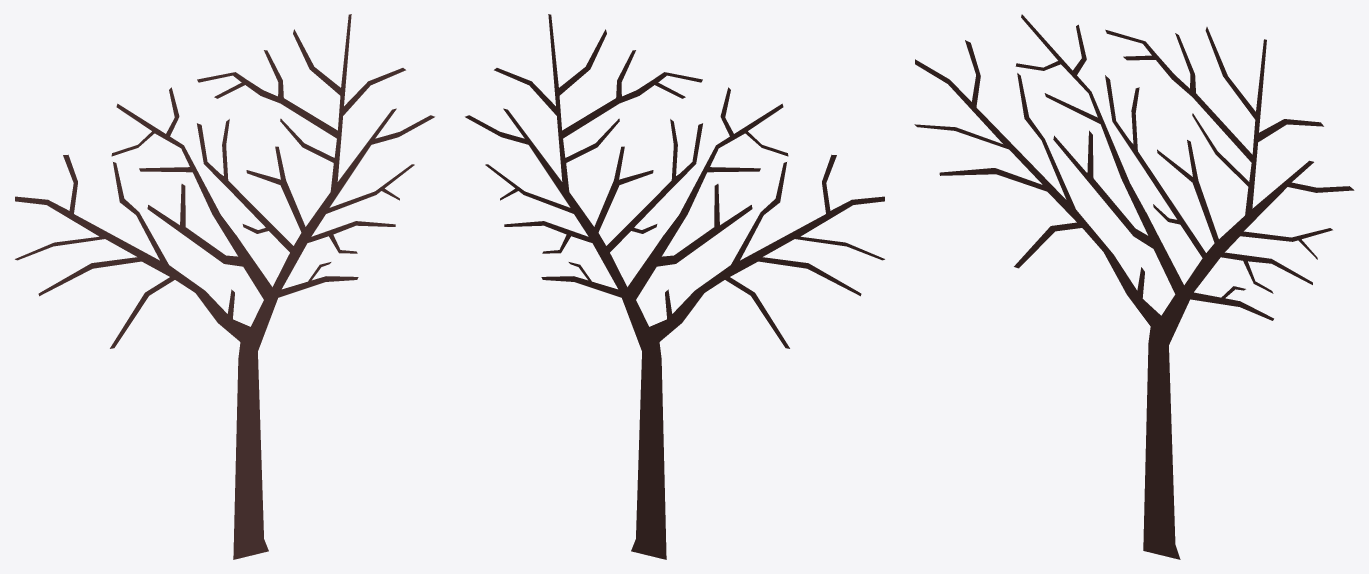
The model's file is CherryTree_01.fbx.
3 renders of one model, left to right at view 1: azimuth 30°, elevation 25°; view 2: azimuth 150°, elevation 25°; view 3: azimuth 330°, elevation 25°, orthographic. The views are drawn at different scales.
Visible parts, largest first — view 1: nurbsToPoly1; view 2: nurbsToPoly1; view 3: nurbsToPoly1.
Boxes of the visible parts, x1,y1,x2,y2 form: nurbsToPoly1: [15, 14, 434, 559]; nurbsToPoly1: [465, 14, 884, 559]; nurbsToPoly1: [914, 14, 1354, 559].
Bounding box in the file's own units: 11.97 × 14.05 × 0.
1 material, 1 textured.
